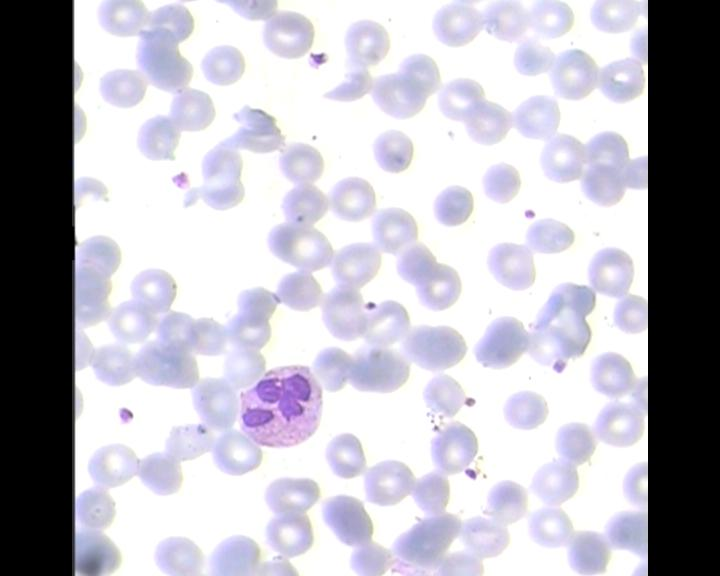neut: (231, 356, 327, 450)
